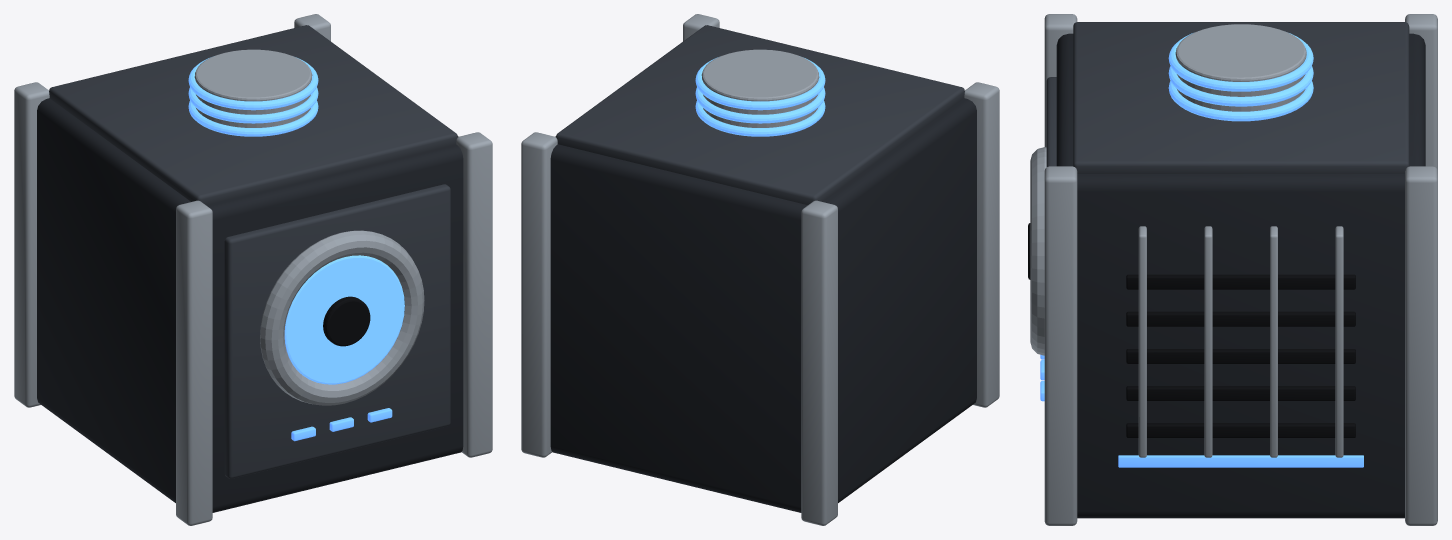
Rendered from rscControllerAdvanced.fbx.
The picture shows the model from 3 angles, left to right: view 1: azimuth 30°, elevation 25°; view 2: azimuth 150°, elevation 25°; view 3: azimuth 270°, elevation 25°; orthographic projection. The views are drawn at different scales.
Visible parts, largest first — view 1: rscControllerAdvanced_case, rscControllerAdvanced_panel, rscControllerAdvanced_cap, rscControllerAdvanced_post, rscControllerAdvanced_ring, rscControllerAdvanced_core, rscControllerAdvanced_post.002, rscControllerAdvanced_post.001, rscControllerAdvanced_coil, rscControllerAdvanced_coreeye, rscControllerAdvanced_band2, rscControllerAdvanced_band1 (+1 smaller); view 2: rscControllerAdvanced_case, rscControllerAdvanced_cap, rscControllerAdvanced_post.001, rscControllerAdvanced_post.003, rscControllerAdvanced_post, rscControllerAdvanced_coil, rscControllerAdvanced_band2, rscControllerAdvanced_band1, rscControllerAdvanced_band0; view 3: rscControllerAdvanced_case, rscControllerAdvanced_cap, rscControllerAdvanced_post.002, rscControllerAdvanced_post.003, rscControllerAdvanced_coil, rscControllerAdvanced_vent4, rscControllerAdvanced_vent3, rscControllerAdvanced_sidestrip, rscControllerAdvanced_ring, rscControllerAdvanced_vent2, rscControllerAdvanced_vent0, rscControllerAdvanced_vent1 (+10 smaller).
Part boxes in pixels (<box>): rscControllerAdvanced_case: <box>37,98,463,512</box>; rscControllerAdvanced_panel: <box>224,184,450,478</box>; rscControllerAdvanced_cap: <box>49,25,457,204</box>; rscControllerAdvanced_post: <box>176,200,212,525</box>; rscControllerAdvanced_ring: <box>260,230,424,405</box>; rscControllerAdvanced_core: <box>284,255,404,384</box>; rscControllerAdvanced_post.002: <box>456,132,492,457</box>; rscControllerAdvanced_post.001: <box>14,82,49,407</box>; rscControllerAdvanced_coil: <box>194,49,312,127</box>; rscControllerAdvanced_coreeye: <box>323,296,370,346</box>; rscControllerAdvanced_band2: <box>188,57,318,110</box>; rscControllerAdvanced_band1: <box>188,87,318,123</box>; rscControllerAdvanced_case: <box>550,98,976,512</box>; rscControllerAdvanced_cap: <box>556,25,964,204</box>; rscControllerAdvanced_post.001: <box>801,200,837,525</box>; rscControllerAdvanced_post.003: <box>521,132,557,457</box>; rscControllerAdvanced_post: <box>964,82,999,407</box>; rscControllerAdvanced_coil: <box>701,49,819,127</box>; rscControllerAdvanced_band2: <box>695,57,825,110</box>; rscControllerAdvanced_band1: <box>695,87,825,123</box>; rscControllerAdvanced_band0: <box>695,100,825,136</box>; rscControllerAdvanced_case: <box>1056,33,1425,518</box>; rscControllerAdvanced_cap: <box>1073,22,1409,173</box>; rscControllerAdvanced_post.002: <box>1044,166,1077,525</box>; rscControllerAdvanced_post.003: <box>1405,166,1437,525</box>; rscControllerAdvanced_coil: <box>1175,24,1306,111</box>; rscControllerAdvanced_vent4: <box>1126,274,1355,289</box>; rscControllerAdvanced_vent3: <box>1126,311,1355,326</box>; rscControllerAdvanced_sidestrip: <box>1118,455,1363,467</box>; rscControllerAdvanced_ring: <box>1030,147,1046,355</box>; rscControllerAdvanced_vent2: <box>1126,349,1355,363</box>; rscControllerAdvanced_vent0: <box>1126,423,1355,437</box>; rscControllerAdvanced_vent1: <box>1126,386,1355,400</box>.
Size of the model in its own units: 0.99 by 1.06 by 1.
